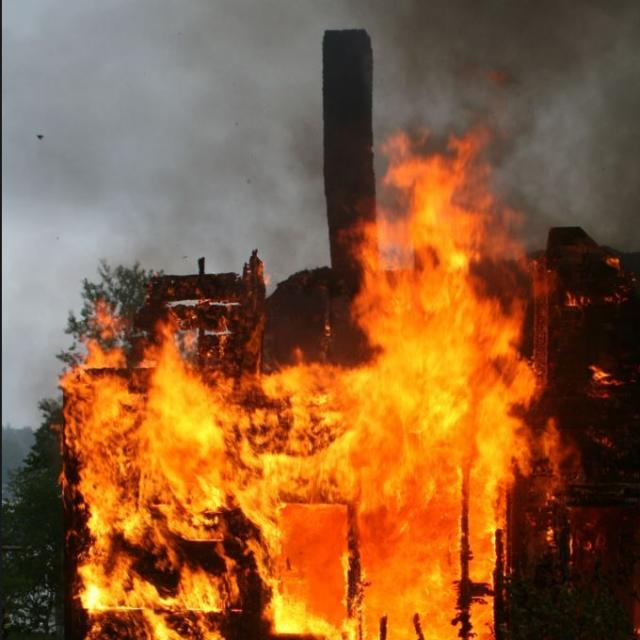Fire: (74, 154, 558, 625)
Smoke: (214, 2, 640, 234)
